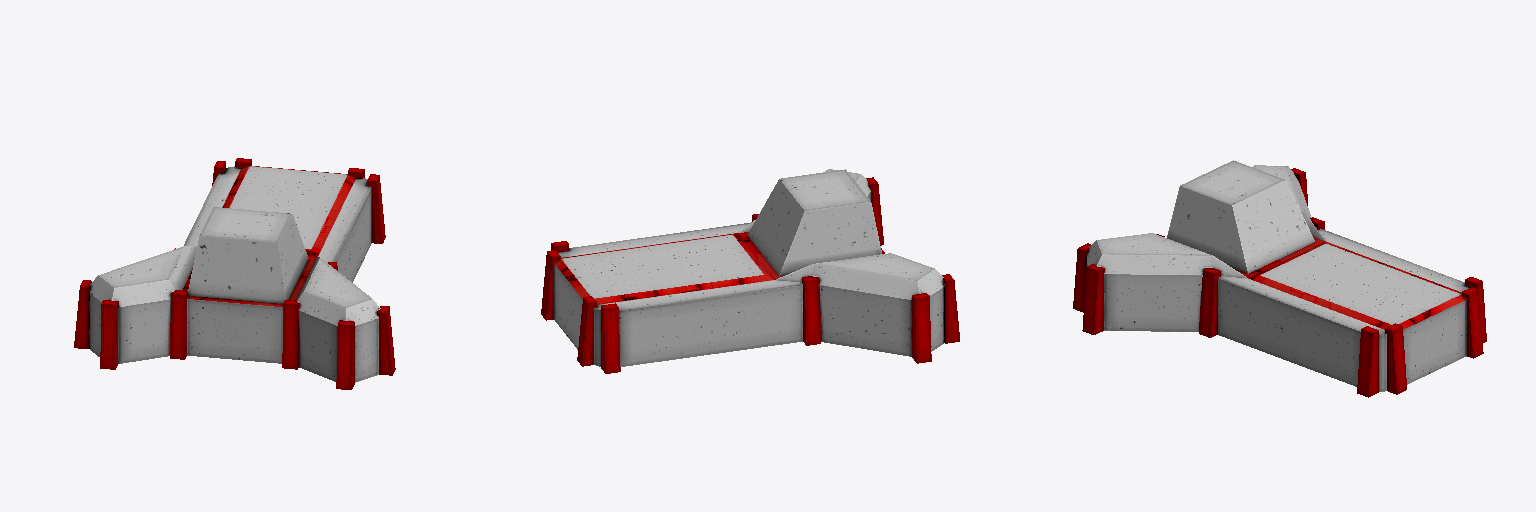
The picture shows the model from 3 angles: view 1: azimuth 30°, elevation 25°; view 2: azimuth 150°, elevation 25°; view 3: azimuth 270°, elevation 25°; orthographic projection.
Parts seen in each view (by area): view 1: Box007.001; view 2: Box007.001; view 3: Box007.001.
Boxes of the visible parts, box(x1,y1,x2,y2) form: Box007.001: box(74, 158, 395, 389); Box007.001: box(541, 169, 959, 373); Box007.001: box(1073, 160, 1486, 397).
Size of the model in its own units: 38.11 by 11.86 by 39.25.
Materials: 1 (1 with a texture image).